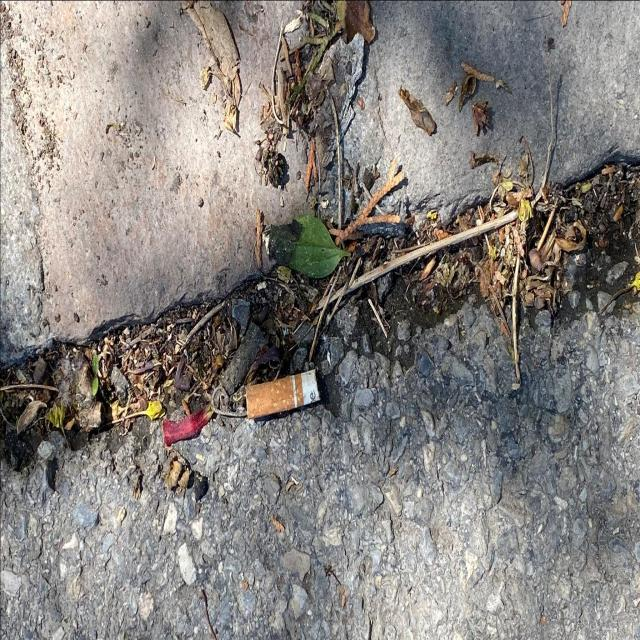other waste: (245, 366, 321, 420)
